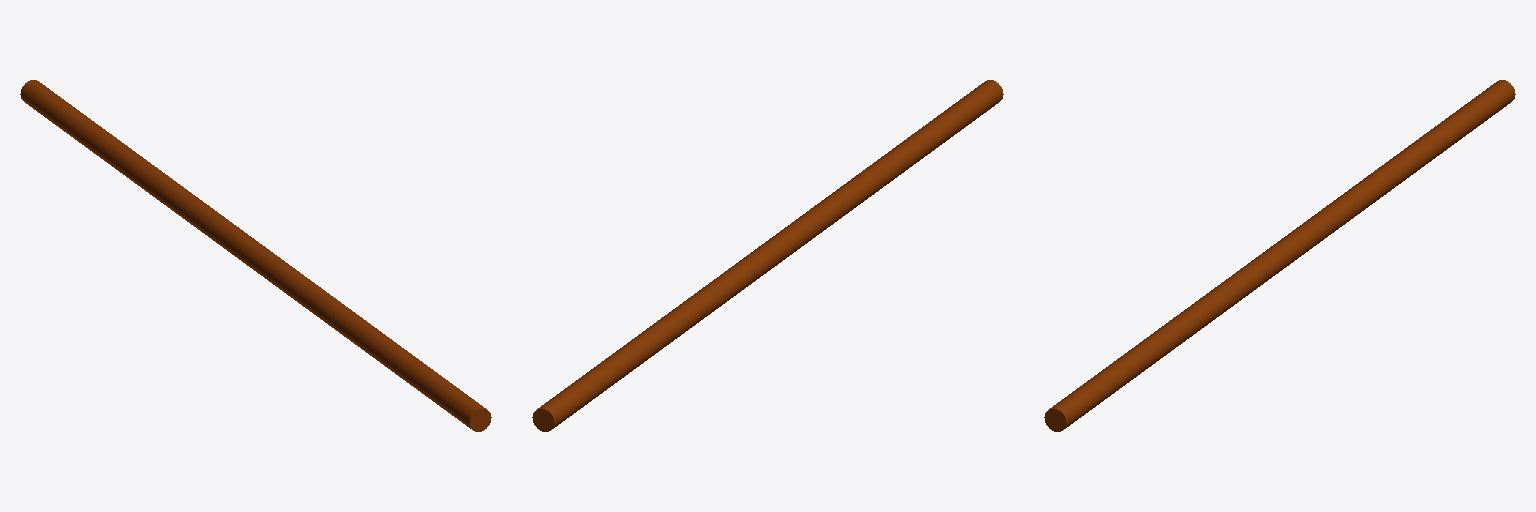
The robot description file, URDF, robot "cylinder":
<?xml version="1.0" ?>
<!-- =================================================================================== -->
<!-- |    This document was autogenerated by xacro from cylinder.xacro                 | -->
<!-- |    EDITING THIS FILE BY HAND IS NOT RECOMMENDED                                 | -->
<!-- =================================================================================== -->
<robot name="cylinder">
  <link name="world"/>
  <link name="base">
    <visual>
      <origin rpy="1.57079633 0 0" xyz="0 0 0"/>
      <geometry>
        <cylinder length="7.07106781185" radius="0.1"/>
      </geometry>
      <material name="cylinder_material">
        <color rgba="0.545 0.271 0.075 1.0"/>
        <texture filename="../textures/tree_bark.jpg"/>
      </material>
    </visual>
    <collision>
      <origin rpy="1.57079633 0 0" xyz="0 0 0"/>
      <geometry>
        <cylinder length="7.07106781185" radius="0.1"/>
      </geometry>
    </collision>
    <inertial>
      <origin rpy="0 0 0" xyz="0 0 0"/>
      <mass value="1"/>
      <inertia ixx="4.169166666648429" ixy="0.0" ixz="0.0" iyy="4.169166666648429" iyz="0.0" izz="24.999999999890573"/>
    </inertial>
  </link>
  <joint name="base_joint" type="fixed">
    <parent link="world"/>
    <child link="base"/>
    <origin rpy="0 0 0" xyz="0.0 0.0 0.0"/>
  </joint>
</robot>

--- Render facts (derived) ---
3 views of the same robot in one strip: view 1: azimuth 30°, elevation 25°; view 2: azimuth 150°, elevation 25°; view 3: azimuth 330°, elevation 25° (orthographic).
Robot: cylinder — 2 links, 1 joints (1 fixed); root link world; default pose: all joints at 0.
Visible links, largest first — view 1: base; view 2: base; view 3: base.
Boxes of the visible links, x1,y1,x2,y2 form: base: [20, 80, 491, 431]; base: [532, 80, 1003, 431]; base: [1044, 80, 1515, 431].
Size in the robot's own frame: 0.2 by 7.07 by 0.2 metres.
Geometry: primitives only (box / cylinder / sphere), no mesh files.
